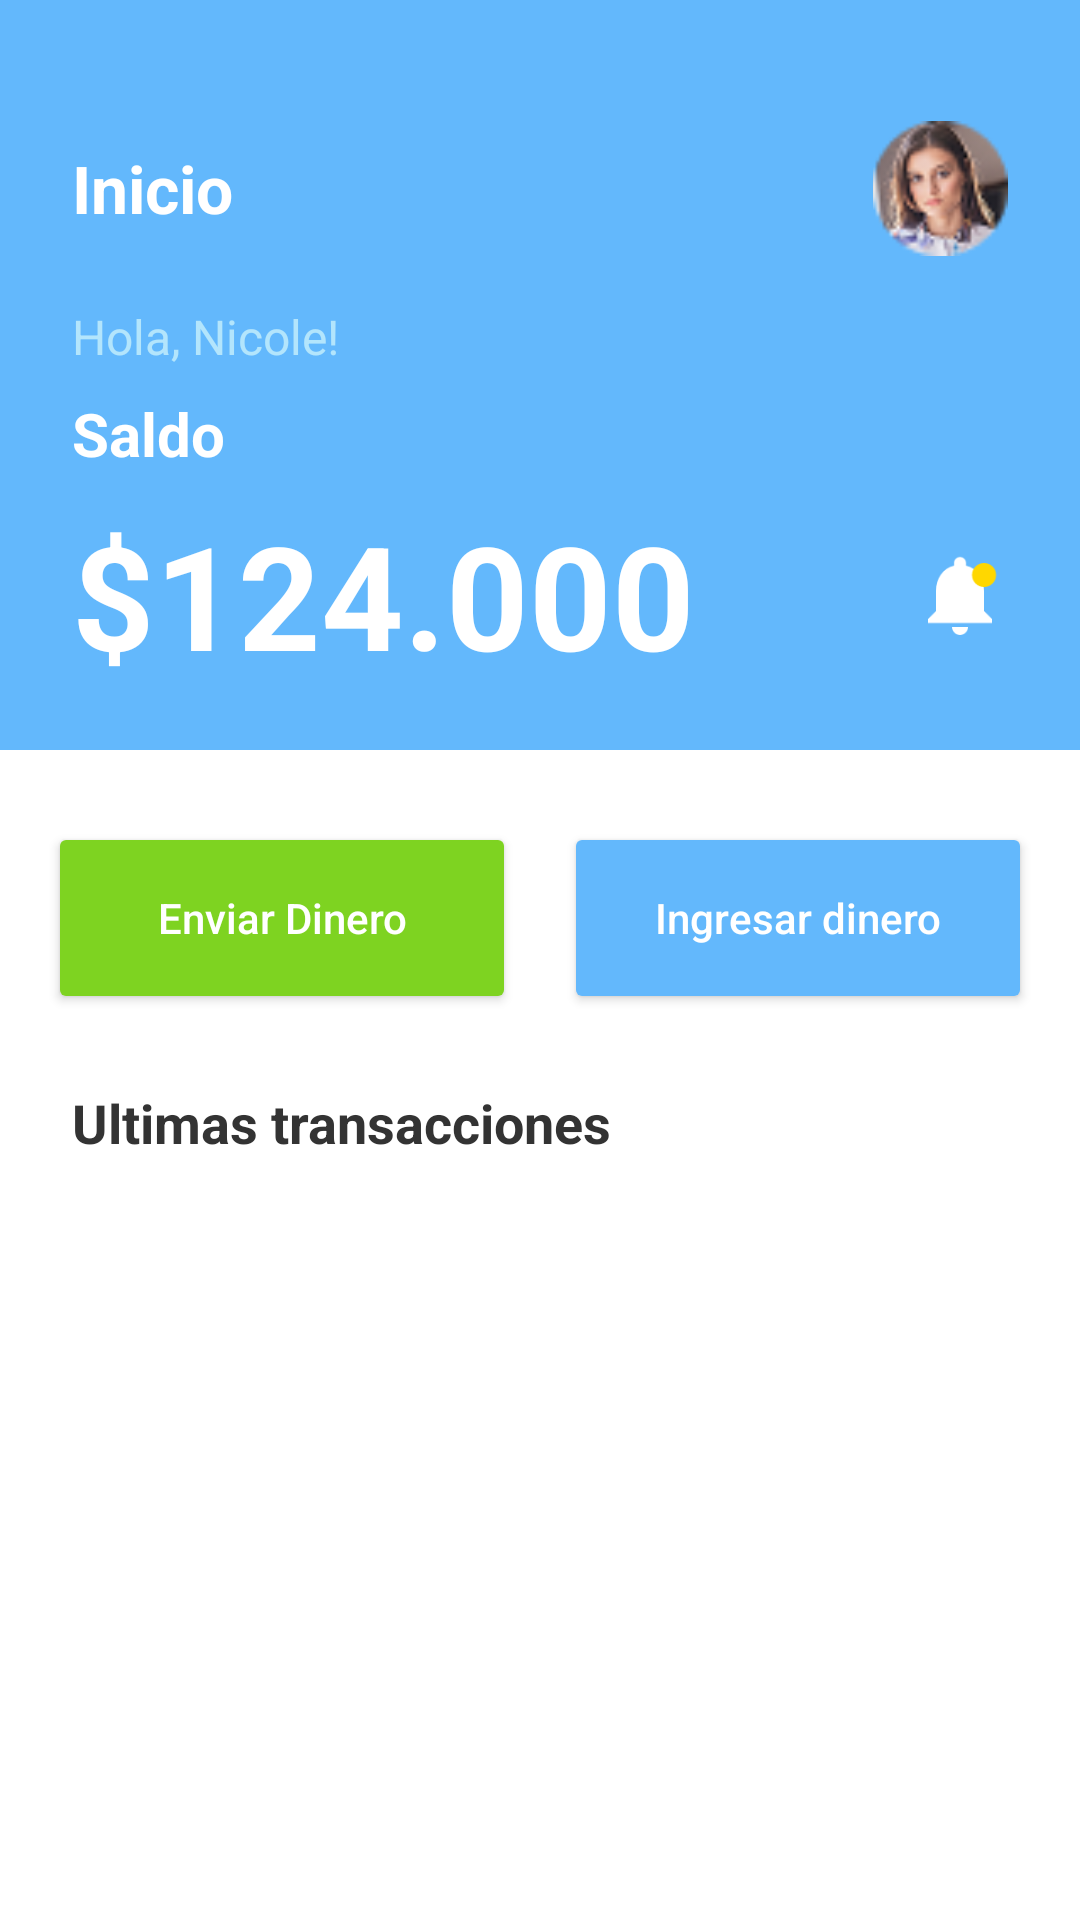

Where icons sit on this 1080px×1920px app screen, as (x1=x1, y1=y1, x2=x2, y2=y2):
bell: (x1=928, y1=557, x2=997, y2=635)
foto perfil: (x1=873, y1=121, x2=1008, y2=256)
